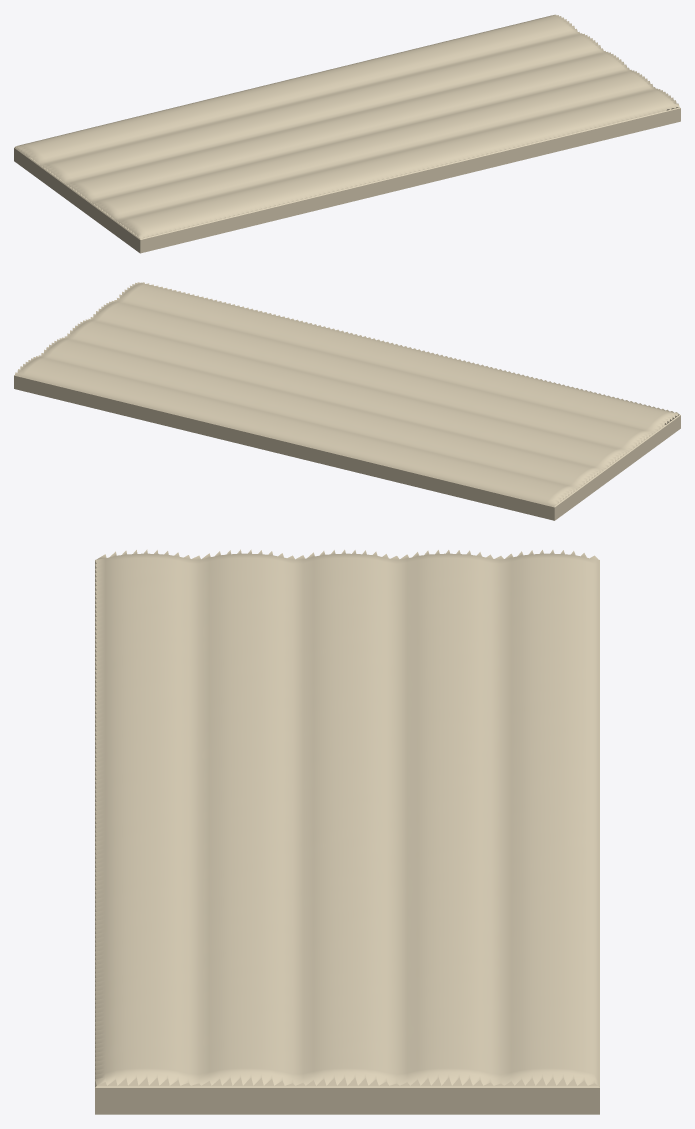
The model's file is mahsulot.glb.
3 renders of one model, top to bottom at view 1: azimuth 30°, elevation 25°; view 2: azimuth 150°, elevation 25°; view 3: azimuth 270°, elevation 25°, orthographic. The views are drawn at different scales.
Visible parts, largest first — view 1: mahsulot; view 2: mahsulot; view 3: mahsulot.
Part boxes in pixels (x1,y1,x2,y2): mahsulot: (14, 14, 680, 253); mahsulot: (14, 282, 680, 520); mahsulot: (95, 549, 599, 1114).
Size of the model in its own units: 1.2 by 0.0398 by 0.485.
